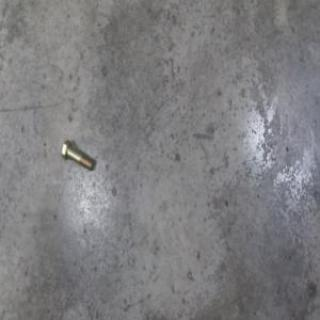Bolttrack_idkeyframe: (61, 137, 93, 171)
